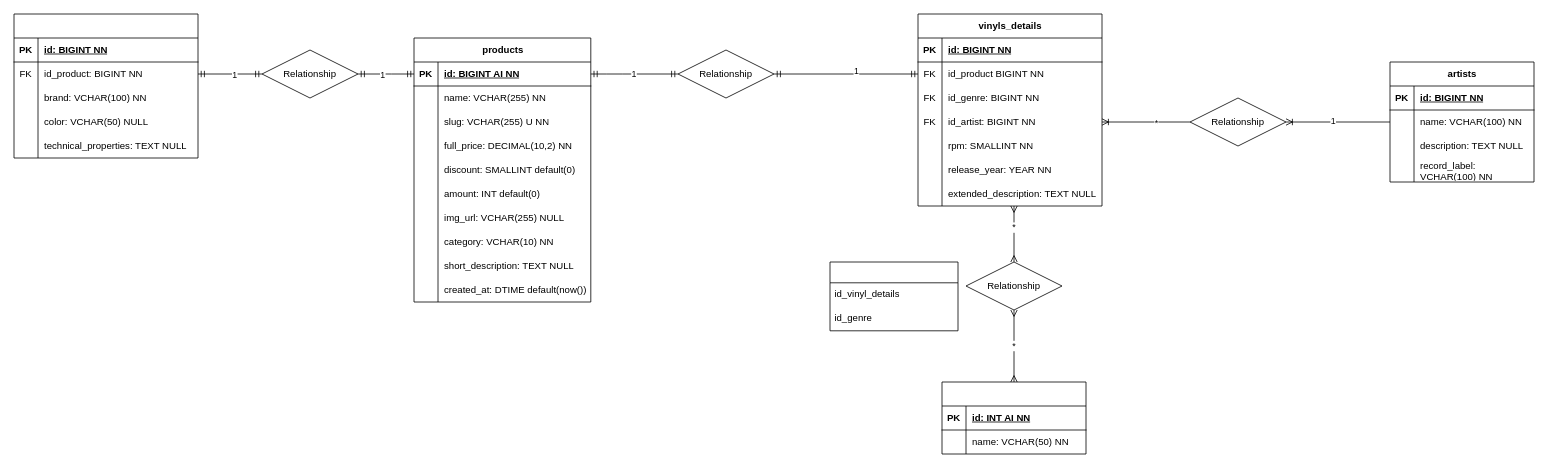
The diagram is 1548 pixels wide and 468 high, and some of its shapes have lost their labels. Each missing label, with the box of its shape:
genres: (941, 381, 1086, 454)
turntables_details: (13, 13, 198, 158)
vinyls_details_genres: (829, 261, 958, 331)
